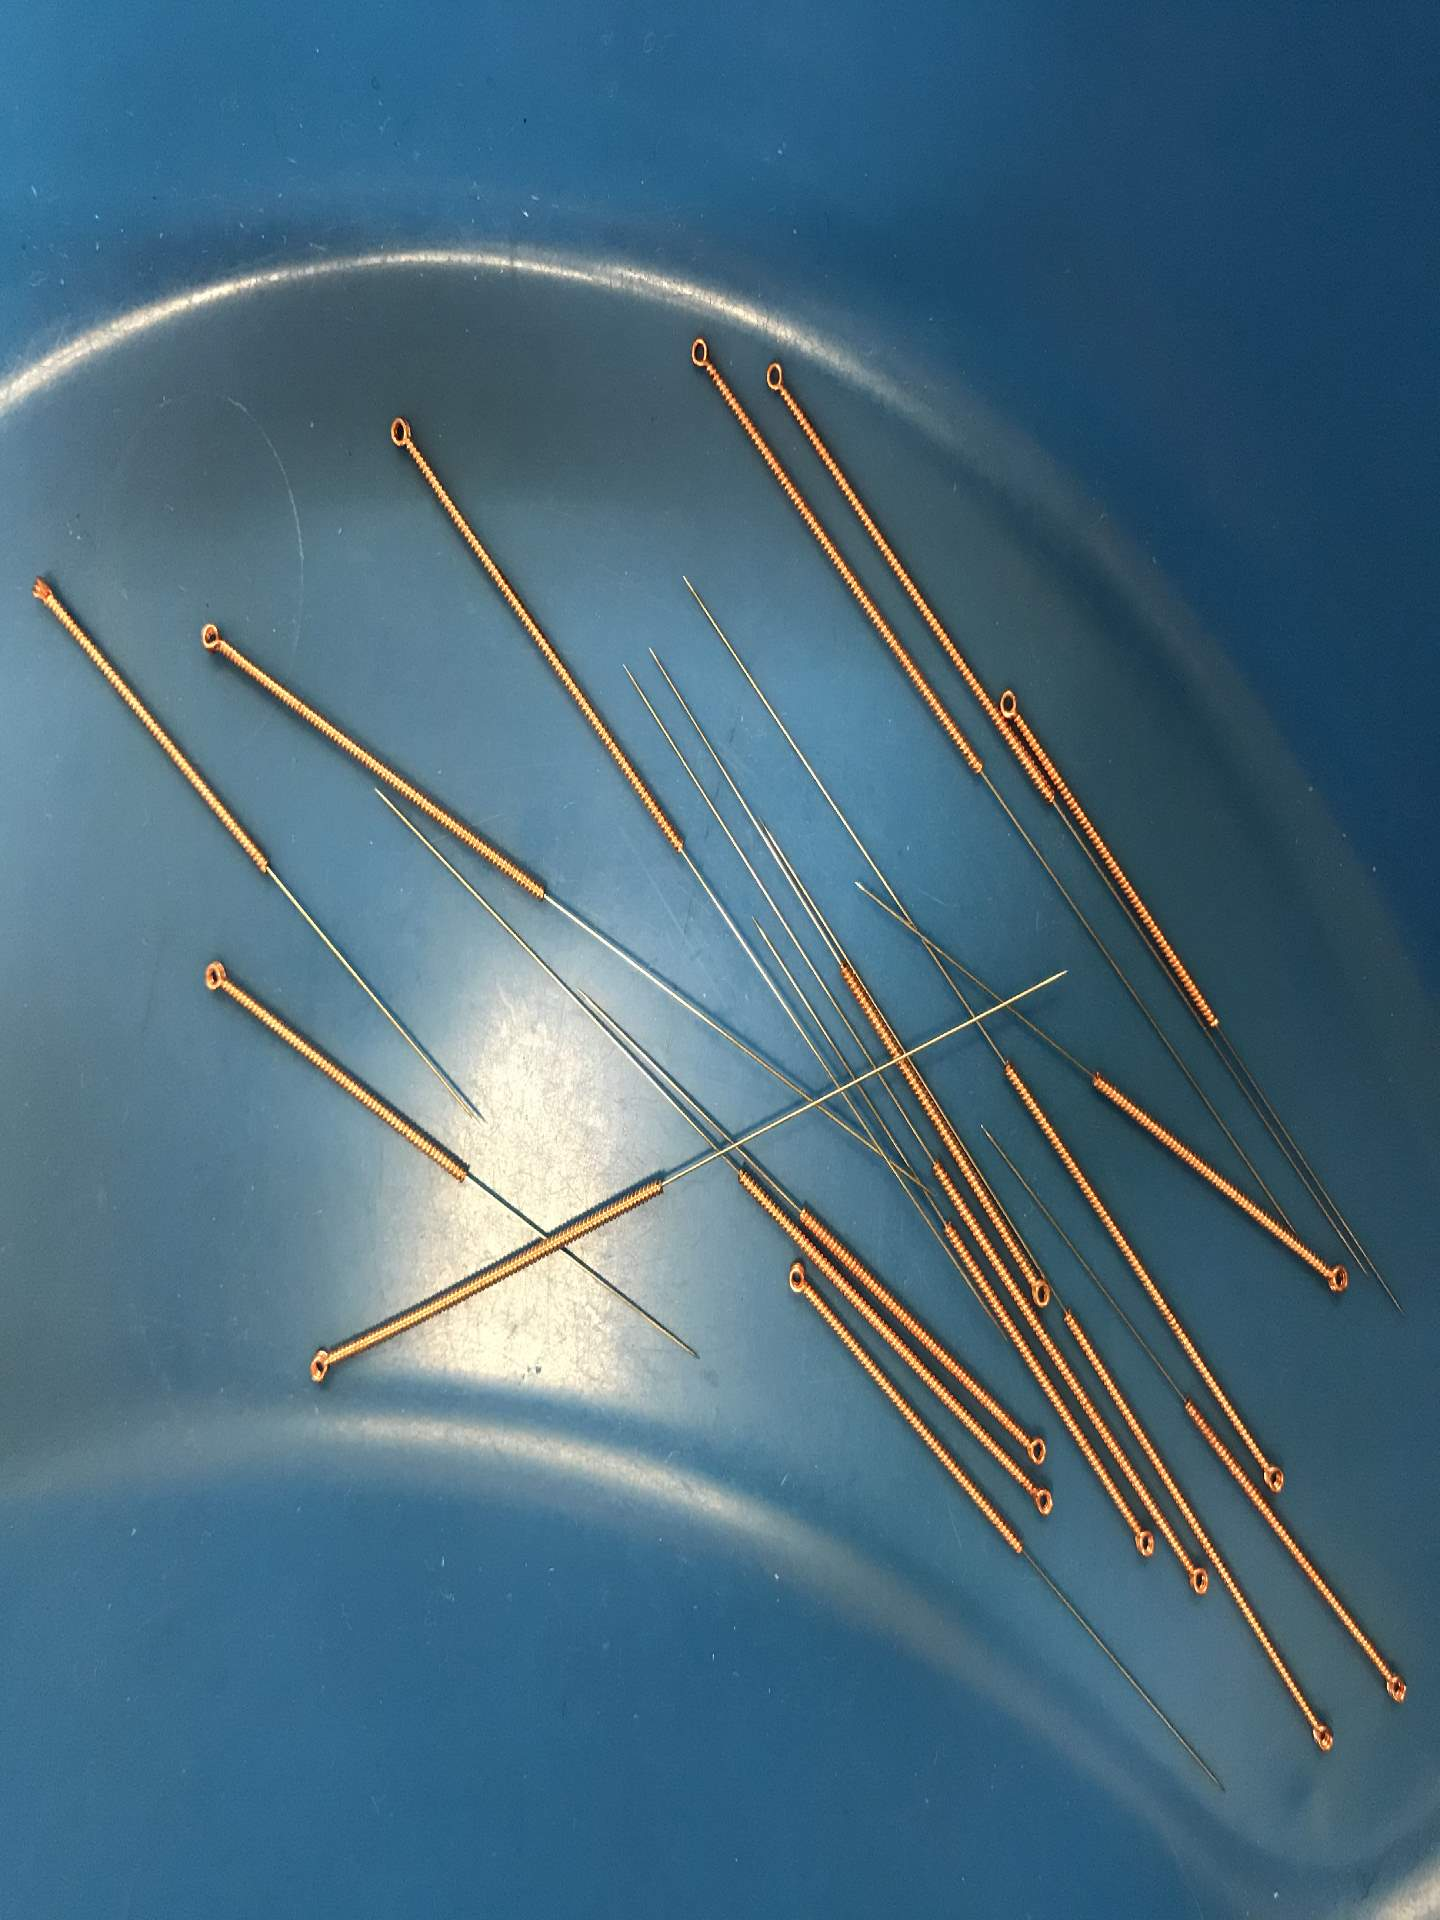needle: (191, 609, 239, 664), (378, 407, 422, 460), (1302, 1708, 1346, 1761), (299, 1338, 340, 1394), (1373, 1663, 1417, 1714), (194, 952, 237, 1002), (1013, 1420, 1056, 1471), (755, 354, 796, 407), (1122, 1516, 1162, 1568), (1314, 1255, 1355, 1303), (1021, 1479, 1062, 1525), (1175, 1559, 1216, 1604), (23, 568, 62, 615), (681, 330, 718, 378), (777, 1256, 814, 1305), (1258, 1448, 1290, 1500), (1027, 1265, 1057, 1312), (997, 685, 1023, 726)
